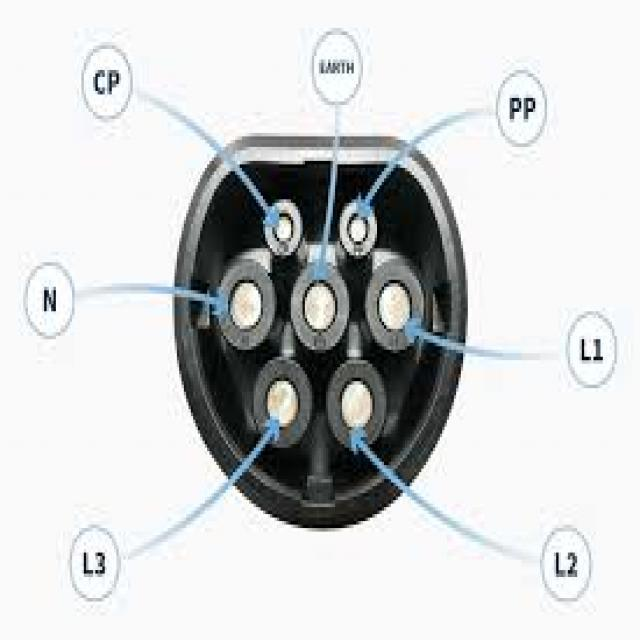Type 2: (164, 140, 470, 508)
